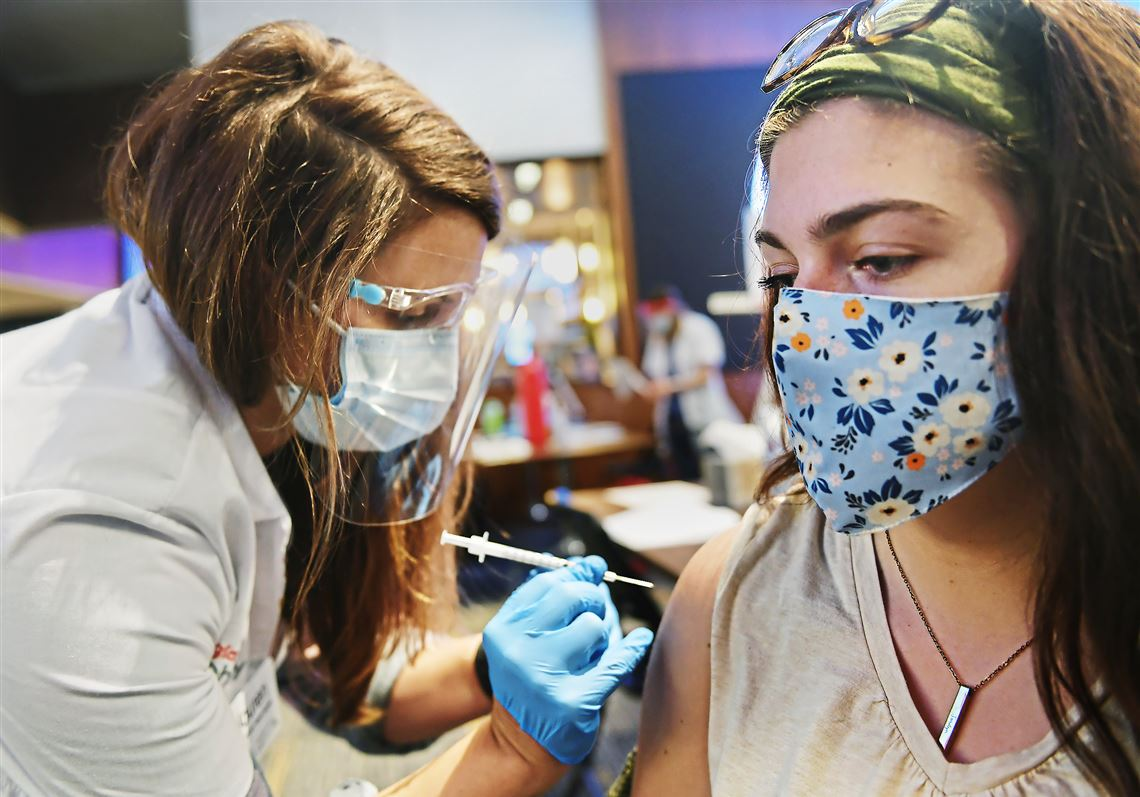with_mask: (769, 155, 1005, 450), (266, 207, 458, 445)
